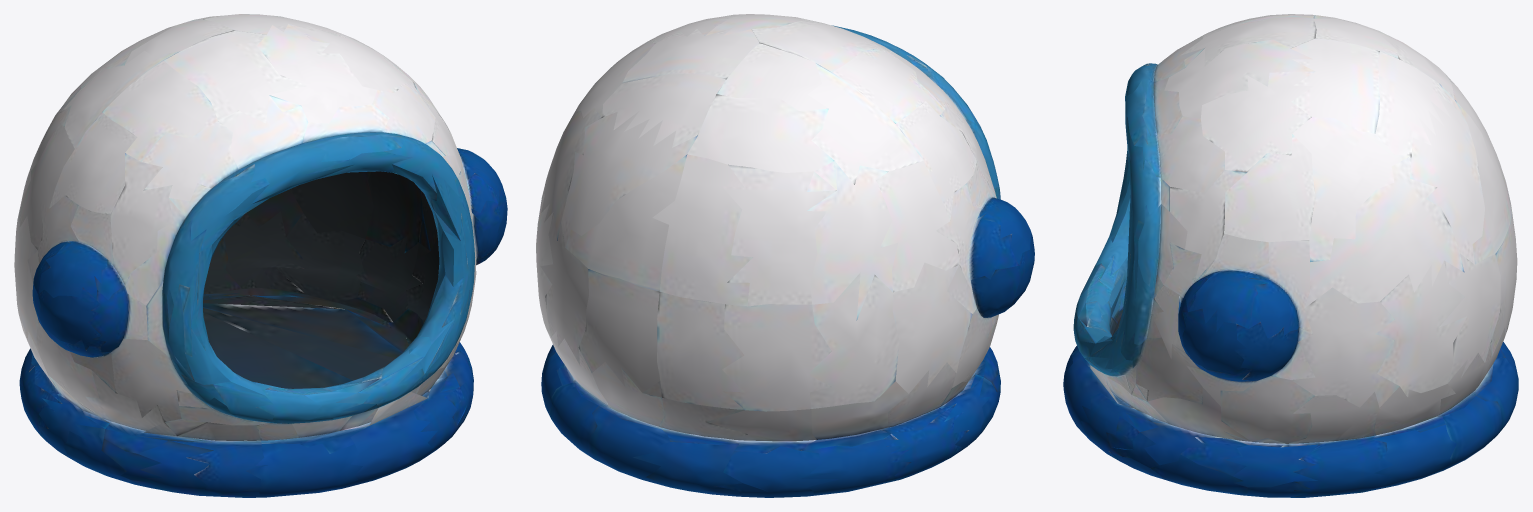
Rendered from udstyr-rumhjelm.glb.
3 renders of one model, left to right at view 1: azimuth 30°, elevation 25°; view 2: azimuth 150°, elevation 25°; view 3: azimuth 270°, elevation 25°, orthographic.
Bounding box in the file's own units: 1.9 × 1.48 × 1.65.
1 material, 1 textured.
